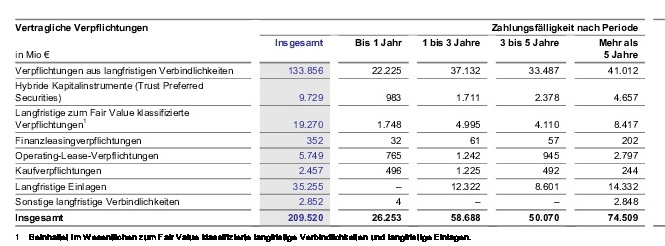table: (0, 0, 665, 246)
